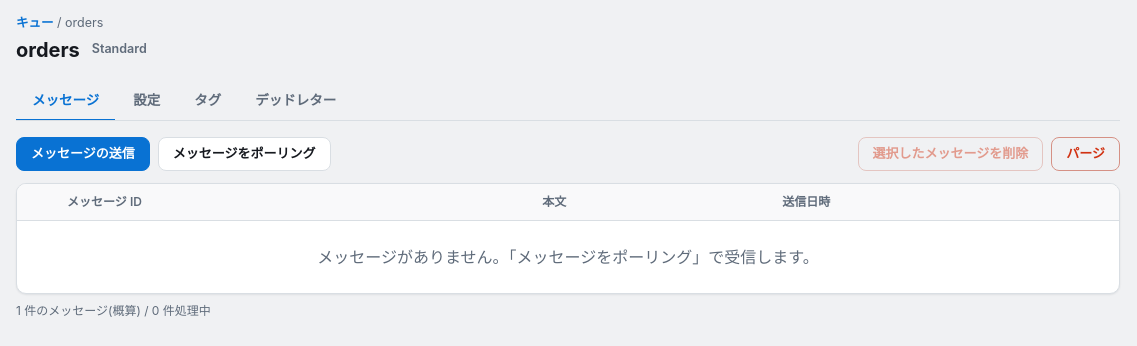
QueueDetailPage › polls for messages and expands the row to show the full body
Click the button with test id "queue-poll" at (244, 154), box [158,137,331,170]
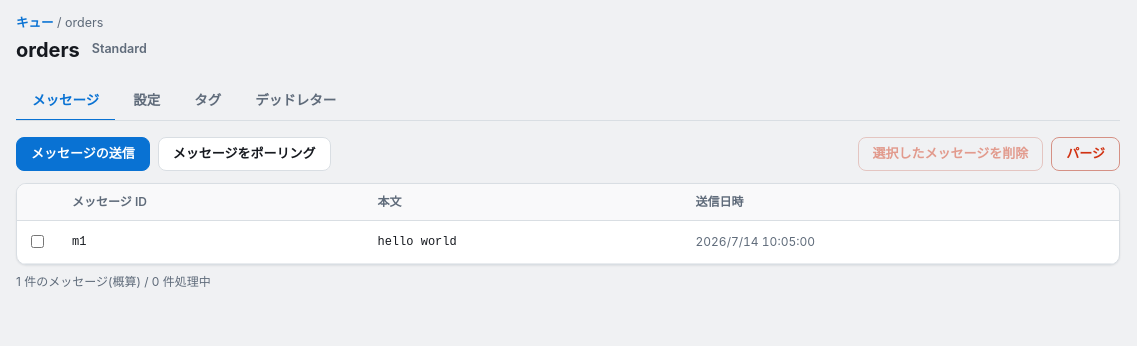
Check: the row with test id "msg-row-m1" is shown
Click the row with test id "msg-row-m1" at (568, 242), box [17,220,1119,263]
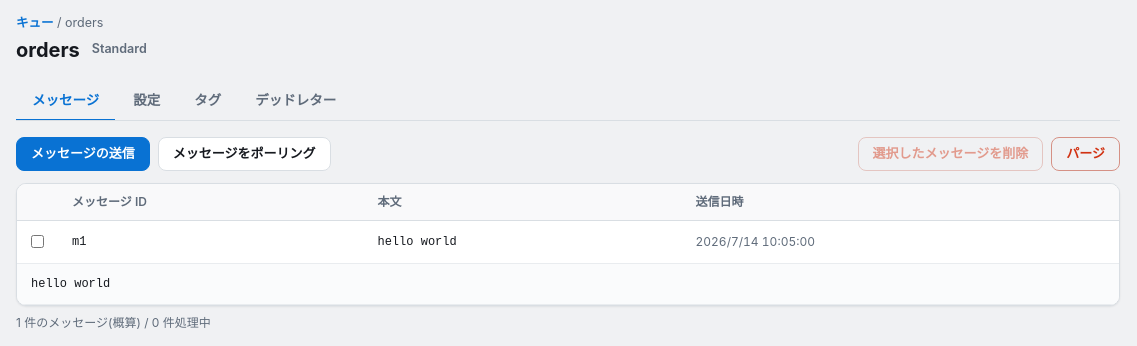
Check: the text with test id "msg-body-m1" reads "hello world", box [31,276,110,290]
